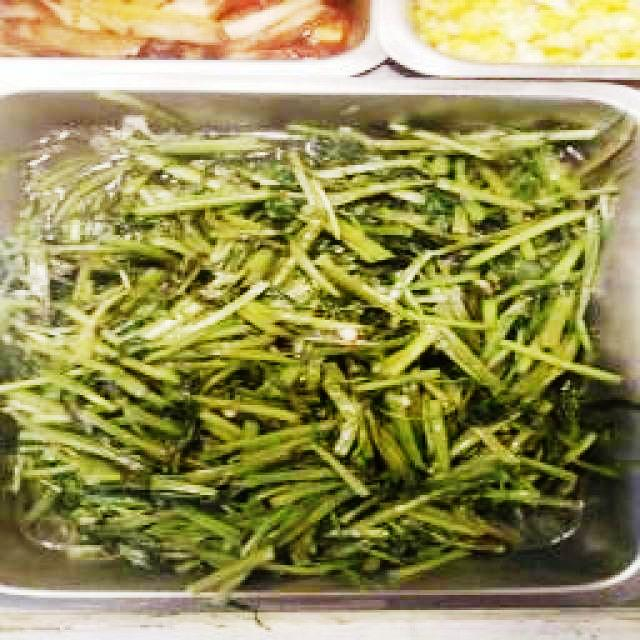water_spinach: (50, 126, 600, 564)
